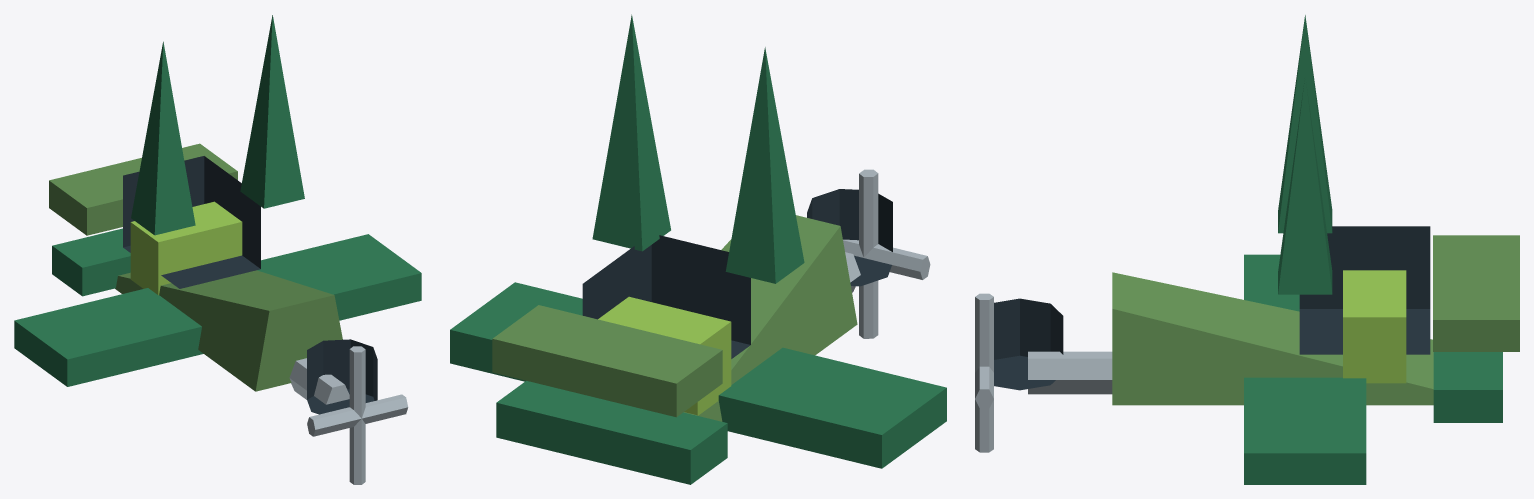
File: air.obj
3 renders of one model, left to right at view 1: azimuth 30°, elevation 25°; view 2: azimuth 150°, elevation 25°; view 3: azimuth 270°, elevation 25°, orthographic. The views are drawn at different scales.
Parts seen in each view (by area): view 1: air; view 2: air; view 3: air.
Boxes of the visible parts, left/top/right/bottom form: air: left=14, top=15, right=421, bottom=484; air: left=450, top=14, right=946, bottom=484; air: left=975, top=15, right=1519, bottom=484.
Size of the model in its own units: 1.56 by 1.48 by 1.8.
